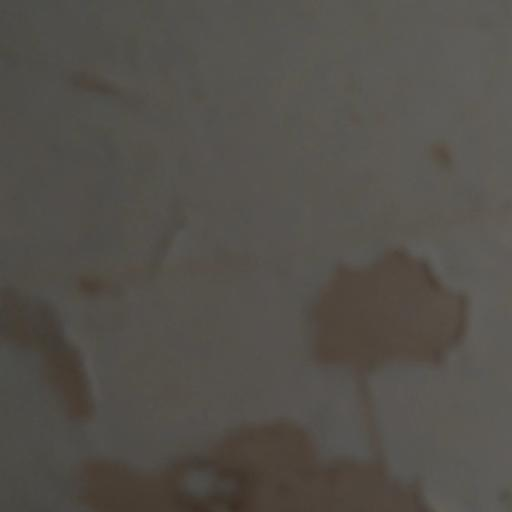peeling: (53, 390, 466, 512), (284, 216, 501, 409), (0, 246, 110, 424), (65, 38, 159, 130)
